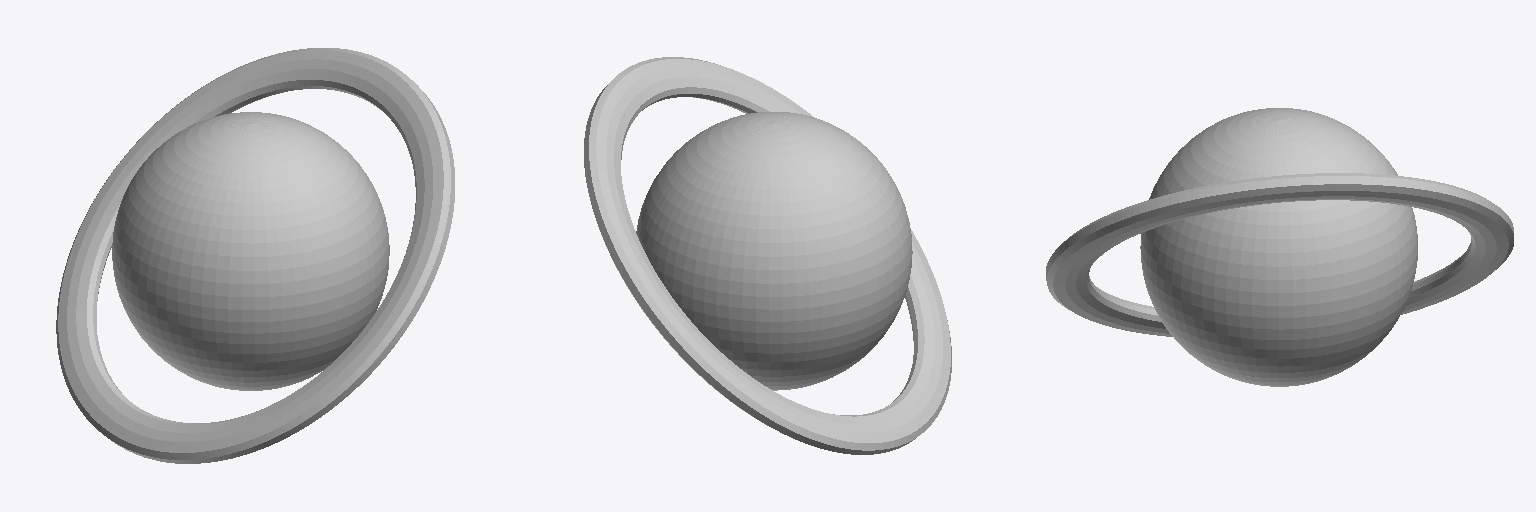
The model's file is saturn.obj.
3 renders of one model, left to right at view 1: azimuth 30°, elevation 25°; view 2: azimuth 150°, elevation 25°; view 3: azimuth 270°, elevation 25°, orthographic.
Parts seen in each view (by area): view 1: Saturn; view 2: Saturn; view 3: Saturn.
Boxes of the visible parts, x1=… form: Saturn: x1=56, y1=48, x2=454, y2=463; Saturn: x1=584, y1=57, x2=951, y2=454; Saturn: x1=1046, y1=108, x2=1513, y2=386.
Bounding box in the file's own units: 1.65 × 1.55 × 2.21.